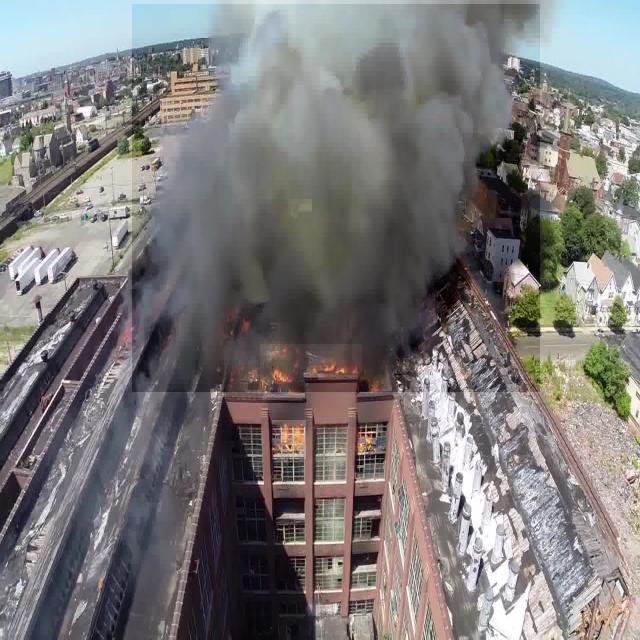Fire: (260, 344, 362, 382), (272, 420, 306, 459)
Smoke: (132, 4, 540, 392)
